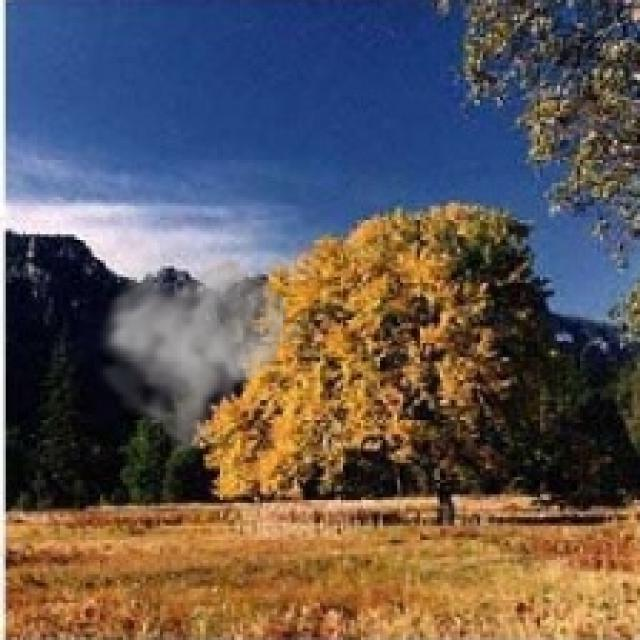Smoke: (94, 240, 306, 463)
